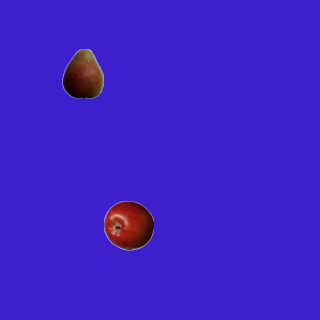Apple Braeburn: (103, 200, 153, 250)
Pear Forelle: (57, 48, 107, 98)
